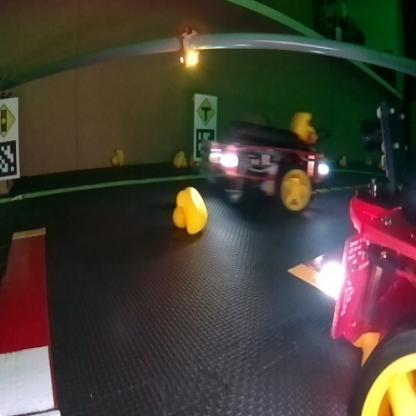duckie: (168, 187, 206, 246), (292, 104, 312, 140)
duckiebot: (328, 93, 415, 415), (197, 131, 330, 209)
